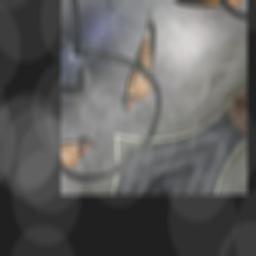Swallow: (85, 5, 193, 121)
